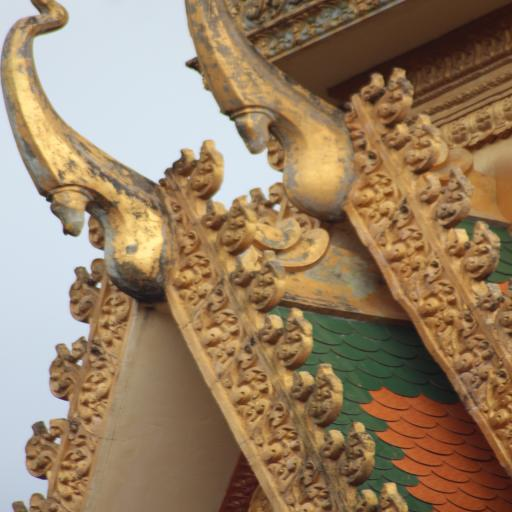la: (61, 426, 105, 479), (266, 437, 313, 486), (204, 318, 253, 364), (75, 370, 118, 420), (184, 284, 232, 324), (229, 360, 268, 409), (382, 211, 419, 262), (249, 402, 296, 442), (462, 350, 506, 392), (287, 475, 336, 512), (48, 475, 96, 512), (440, 318, 482, 360), (360, 166, 392, 221), (173, 251, 211, 292), (403, 258, 446, 294), (89, 329, 127, 367), (416, 292, 457, 324), (483, 387, 512, 427), (100, 292, 130, 330)
lua: (451, 220, 509, 278), (426, 167, 482, 222), (398, 114, 450, 172), (301, 364, 350, 423), (50, 334, 90, 403), (186, 137, 233, 195), (219, 191, 261, 254), (274, 309, 322, 364), (245, 256, 289, 310), (21, 422, 59, 481), (373, 68, 412, 123), (338, 422, 373, 479), (70, 267, 99, 326), (368, 486, 406, 512)
